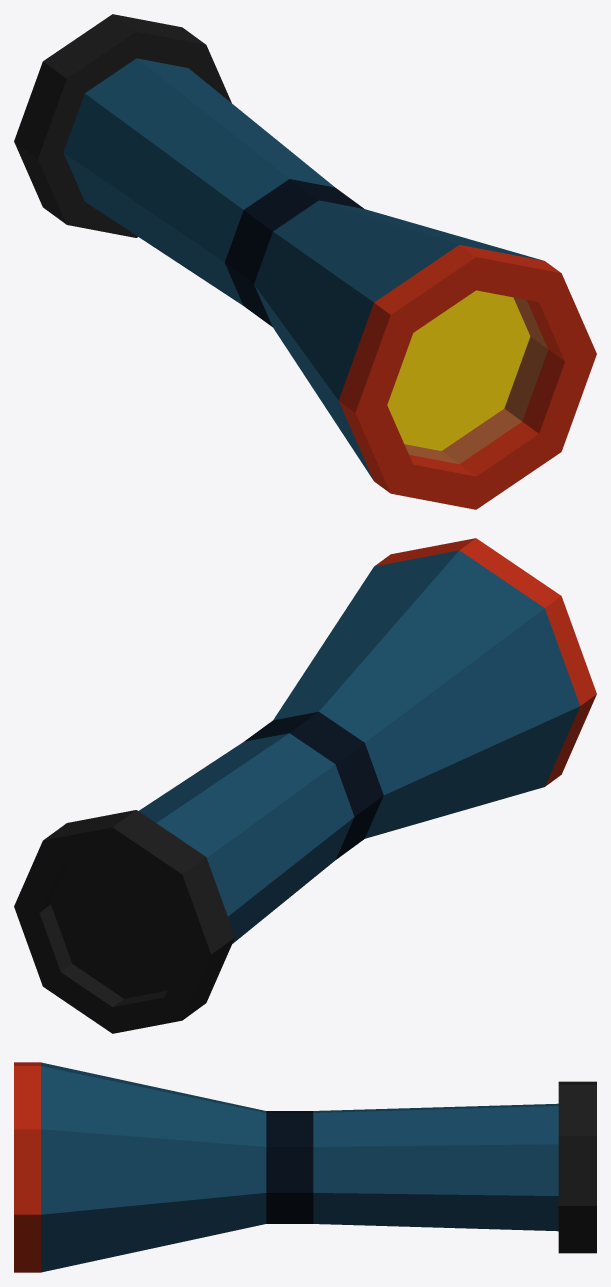
File: lantern.glb
The picture shows the model from 3 angles, top to bottom: view 1: azimuth 30°, elevation 25°; view 2: azimuth 150°, elevation 25°; view 3: azimuth 270°, elevation 25°; orthographic projection. The views are drawn at different scales.
Parts seen in each view (by area): view 1: Cylinder; view 2: Cylinder; view 3: Cylinder.
Boxes of the visible parts, x1=… form: Cylinder: x1=14, y1=14, x2=596, y2=509; Cylinder: x1=14, y1=538, x2=596, y2=1033; Cylinder: x1=14, y1=1062, x2=596, y2=1272.
Size of the model in its own units: 0.4281 by 0.4281 by 1.12.
1 material, 1 textured.
